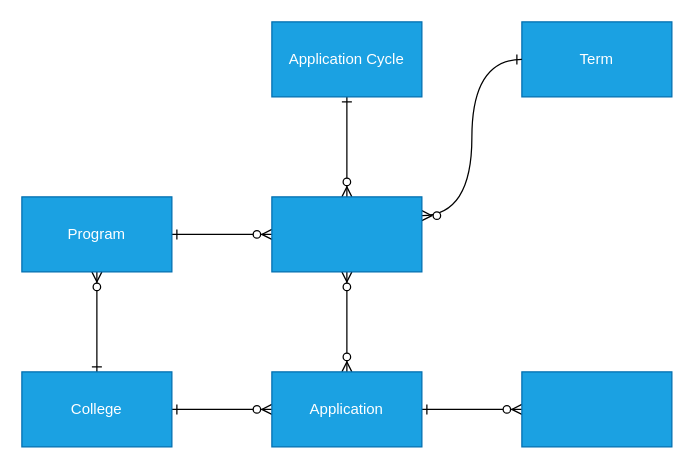
The diagram is 694 pixels wide and 469 high, and some of its shapes have lost their labels. The shapes that lost their labels are listed below. From the top down, each one's centre as x and y in pixels, then its label:
At (346,234): "Program Intake".
At (596,409): "Offer".
